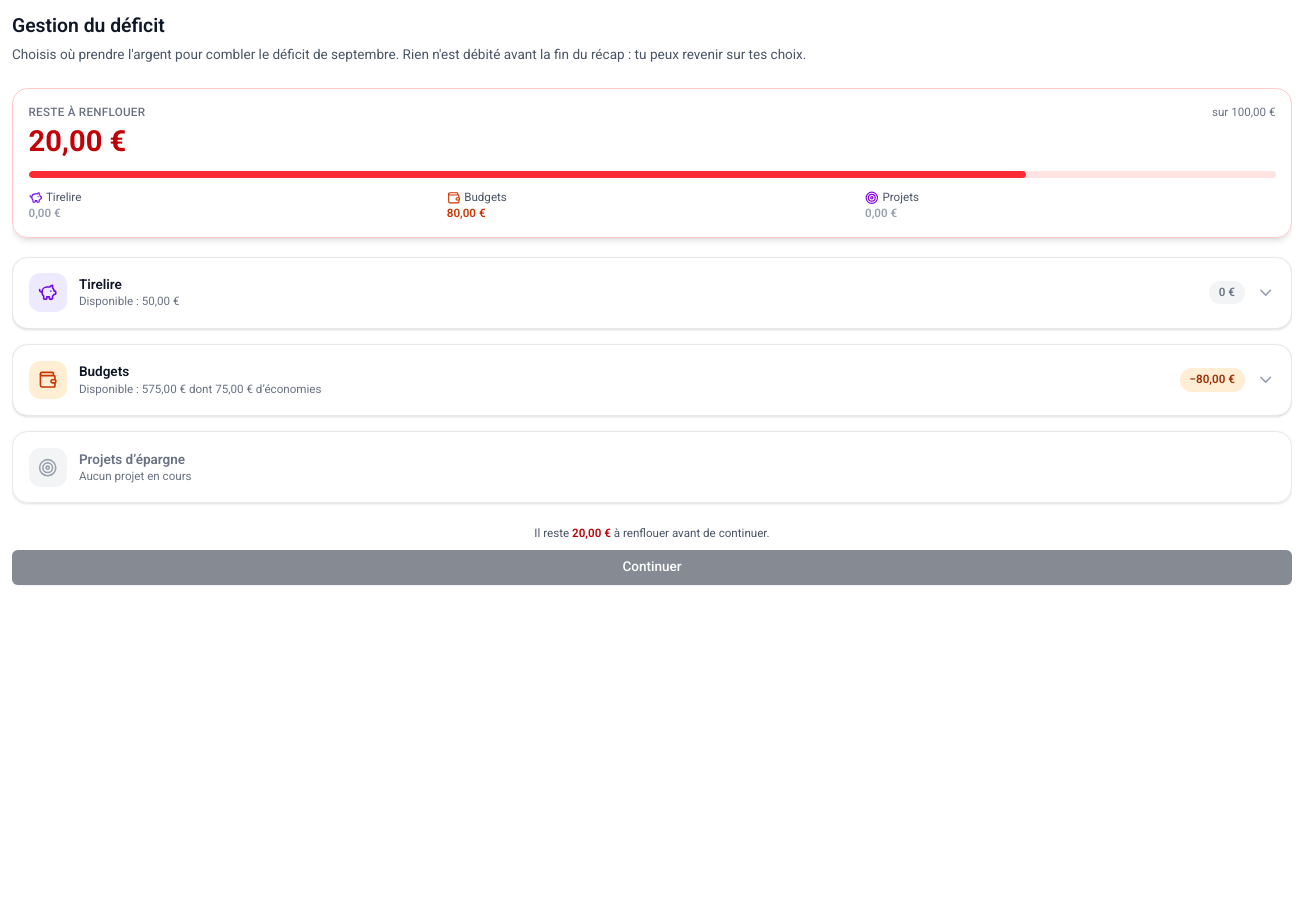
Test: BilanNegativeStep — budgets › ré-ouvre la section avec les montants déjà enregistrés (économies + budget)
This screenshot has width=1304, height=912.
Click the button "Budgets" at (48, 380), box [13,345,1291,415]
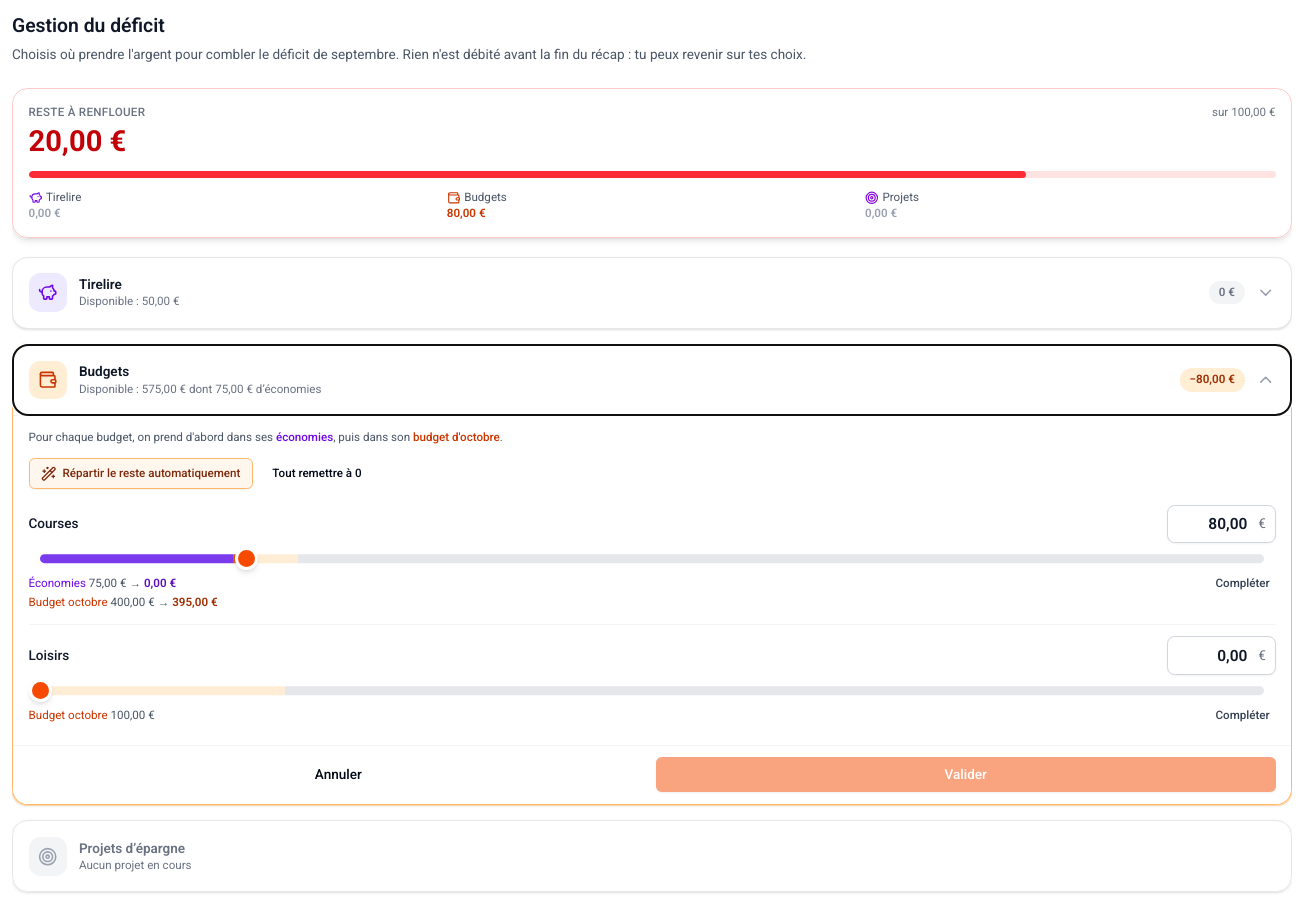
Expected: the field named "Montant pris dans Courses" holds "80,00", [1167,504,1276,543]
